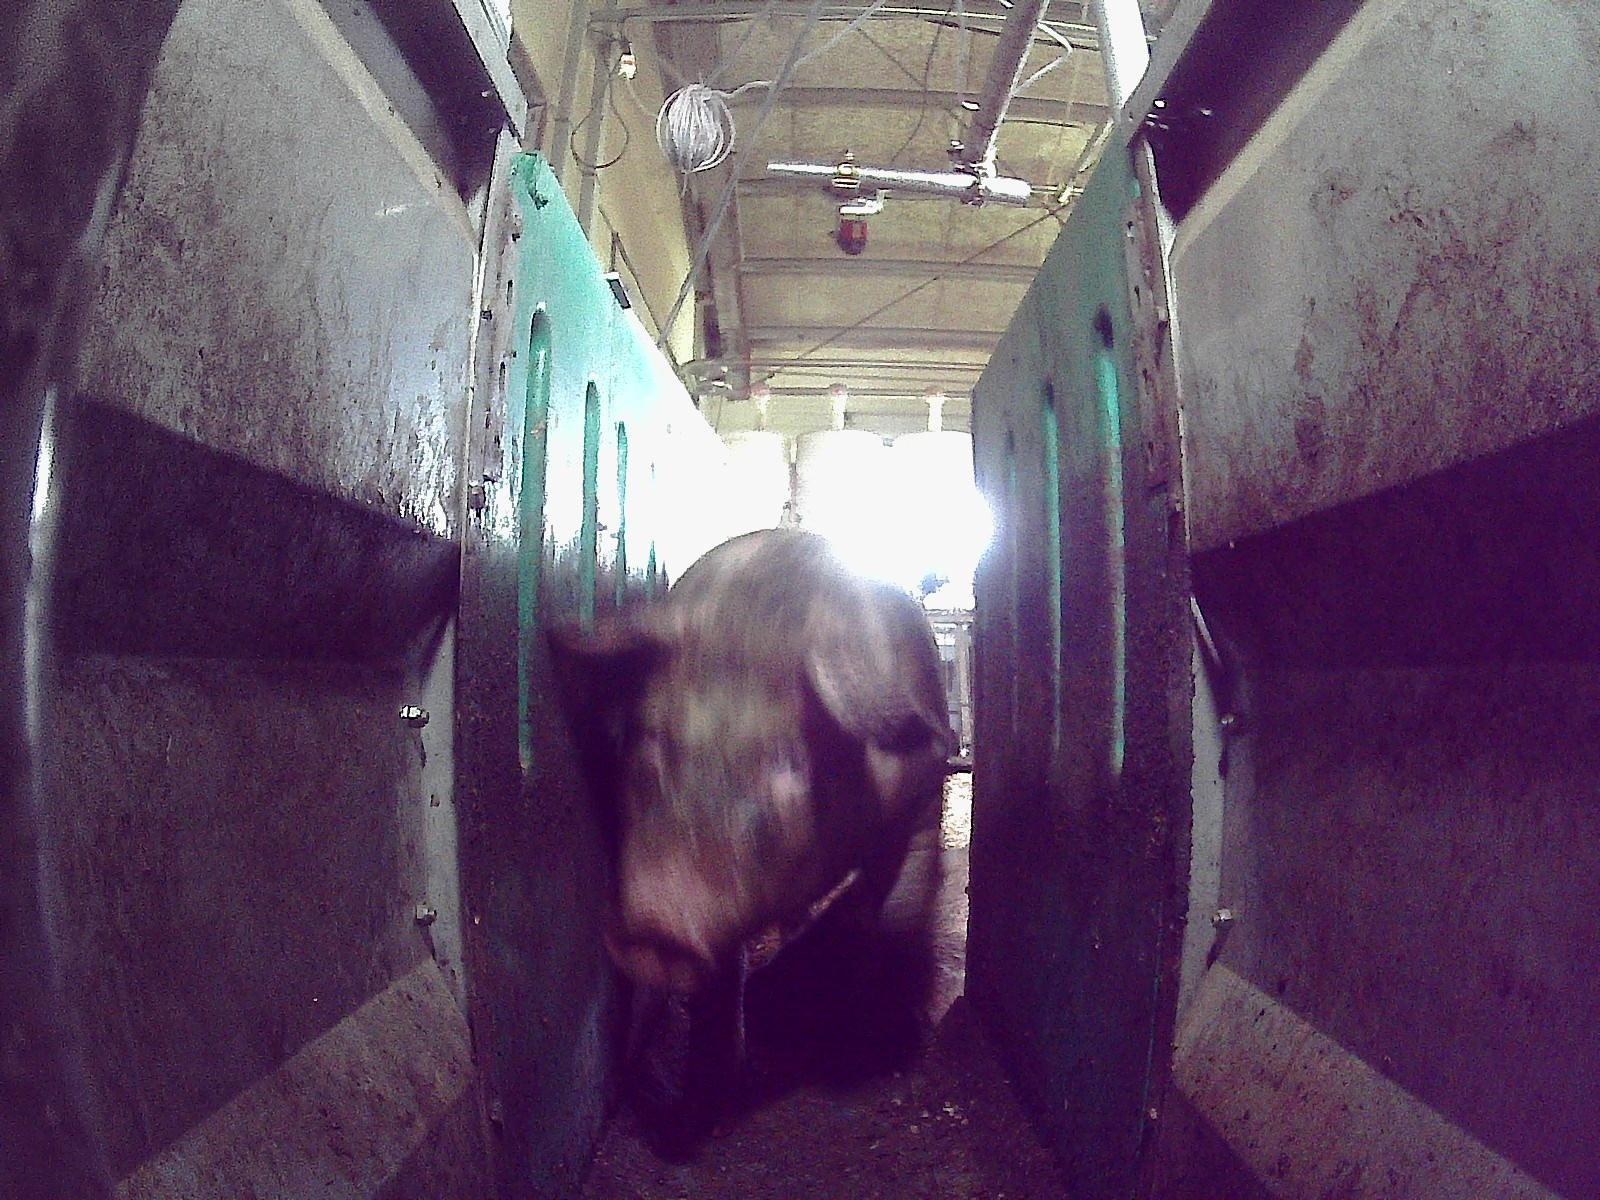Face: (605, 638, 829, 985)
